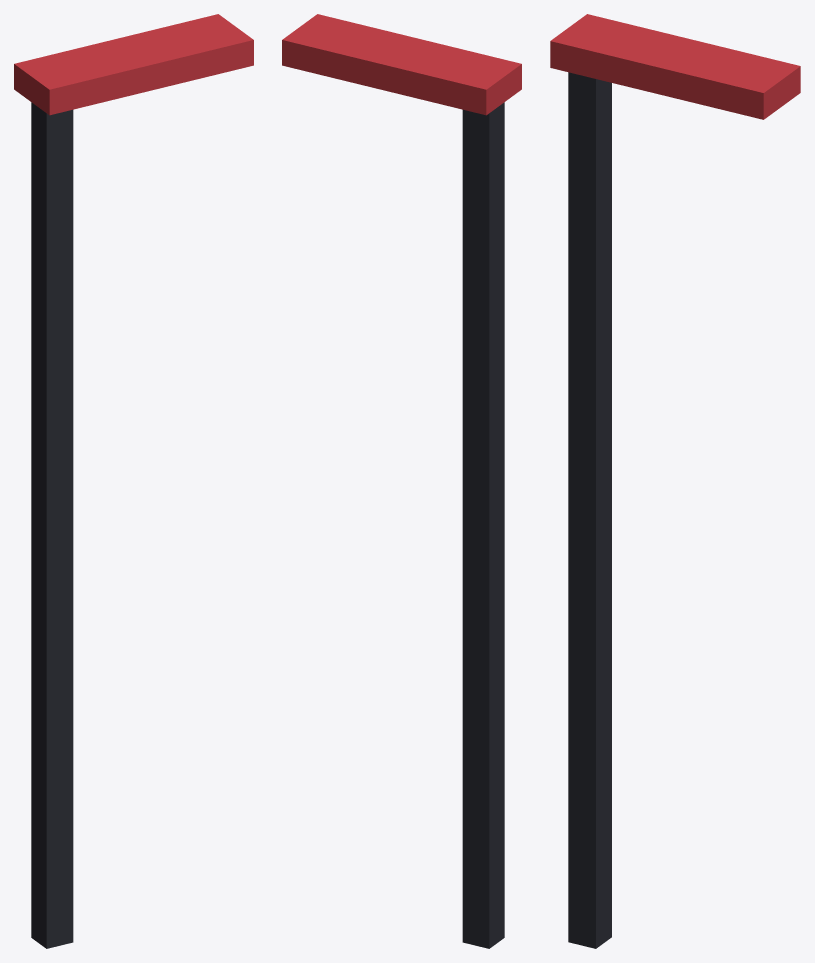
Rendered from lamppost.glb.
3 views of the same model, side by side, from view 1: azimuth 30°, elevation 25°; view 2: azimuth 150°, elevation 25°; view 3: azimuth 330°, elevation 25° (orthographic). The views are drawn at different scales.
Visible parts, largest first — view 1: part_0, part_1; view 2: part_0, part_1; view 3: part_0, part_1.
Part boxes in pixels (<box>): part_0: <box>31,102,73,948</box>; part_1: <box>14,14,253,115</box>; part_0: <box>462,102,504,948</box>; part_1: <box>282,14,521,115</box>; part_0: <box>568,72,611,948</box>; part_1: <box>550,14,800,119</box>.
Size of the model in its own units: 1 by 4.06 by 0.3.
